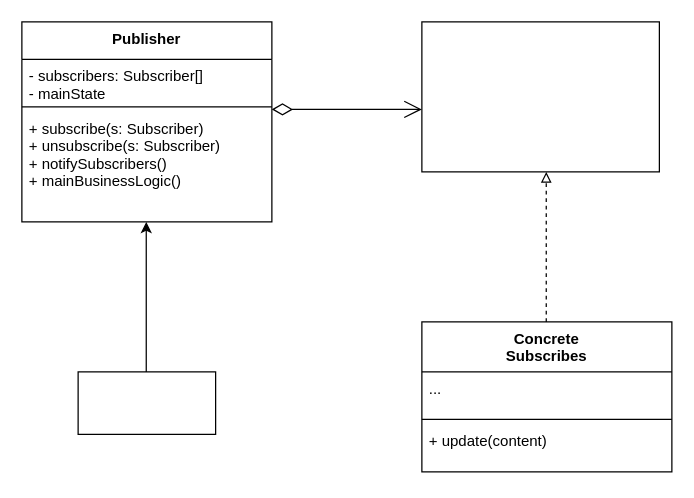
This 694x498 diagram has some shape labels left out. Here are the shapes that lost their labels. From the top down, the box of each, then its label:
(421, 21, 659, 172): <<Interface>> Subscribe ... + update(context)
(77, 371, 216, 434): Client
